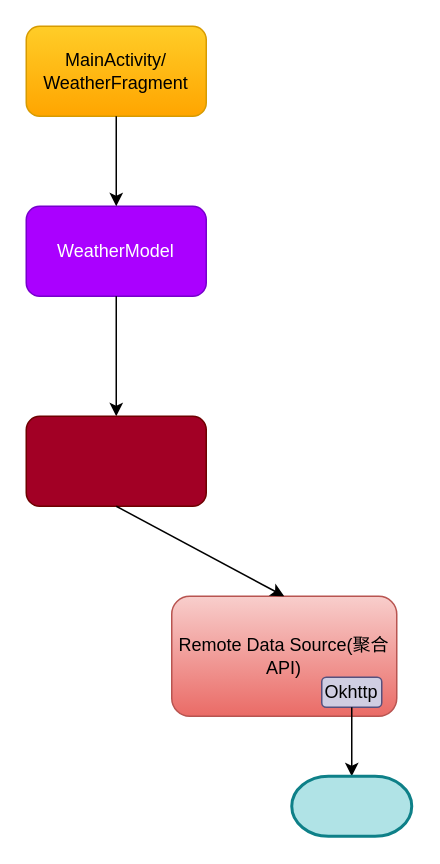
This 440x864 diagram has some shape labels left out. The shapes that lost their labels are listed below. From the top down, each one's centre as x and y in pixels, then its label:
At point 115,460: "WeatherRepository".
At point 351,805: "WebService".
